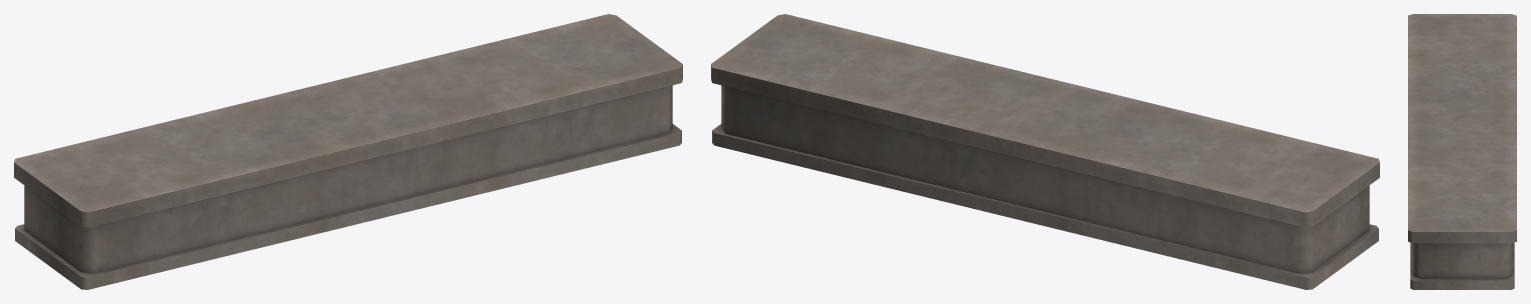
Rendered from sb_obj_outdoor009_AncientTemple_WallTopB.fbx.
The picture shows the model from 3 angles, left to right: view 1: azimuth 30°, elevation 25°; view 2: azimuth 150°, elevation 25°; view 3: azimuth 270°, elevation 25°; orthographic projection. The views are drawn at different scales.
Visible parts, largest first — view 1: sb_obj_outdoor009_AncientTemple_WallTopB; view 2: sb_obj_outdoor009_AncientTemple_WallTopB; view 3: sb_obj_outdoor009_AncientTemple_WallTopB.
Part boxes in pixels (box(x1,y1,x2,y2)): sb_obj_outdoor009_AncientTemple_WallTopB: box(14, 14, 682, 289); sb_obj_outdoor009_AncientTemple_WallTopB: box(711, 14, 1379, 289); sb_obj_outdoor009_AncientTemple_WallTopB: box(1408, 14, 1516, 289).
Bounding box in the file's own units: 7.9 × 0.987 × 1.67.
